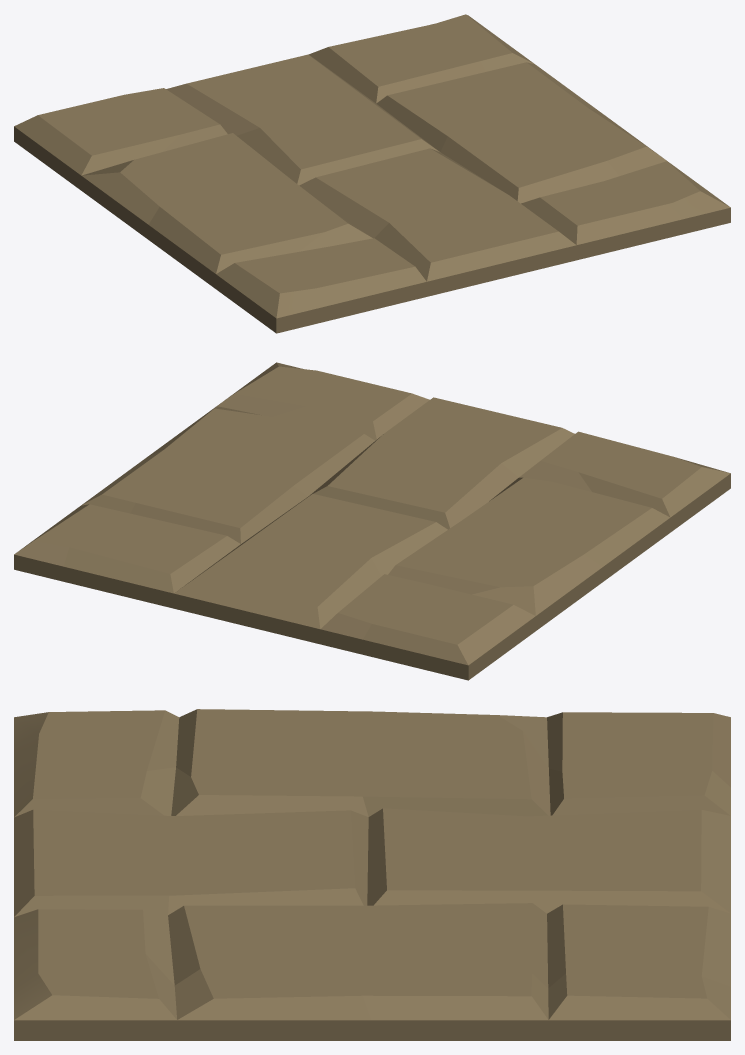
Rendered from Wall_Small_5_low.fbx.
3 views of the same model, one above another, from view 1: azimuth 30°, elevation 25°; view 2: azimuth 150°, elevation 25°; view 3: azimuth 270°, elevation 25° (orthographic). The views are drawn at different scales.
Parts seen in each view (by area): view 1: Wall_Small_2_new__low; view 2: Wall_Small_2_new__low; view 3: Wall_Small_2_new__low.
Boxes of the visible parts, x1,y1,x2,y2 form: Wall_Small_2_new__low: (14, 14, 730, 333); Wall_Small_2_new__low: (14, 362, 730, 680); Wall_Small_2_new__low: (14, 709, 730, 1040).
Size of the model in its own units: 0.9997 by 0.0564 by 1.
